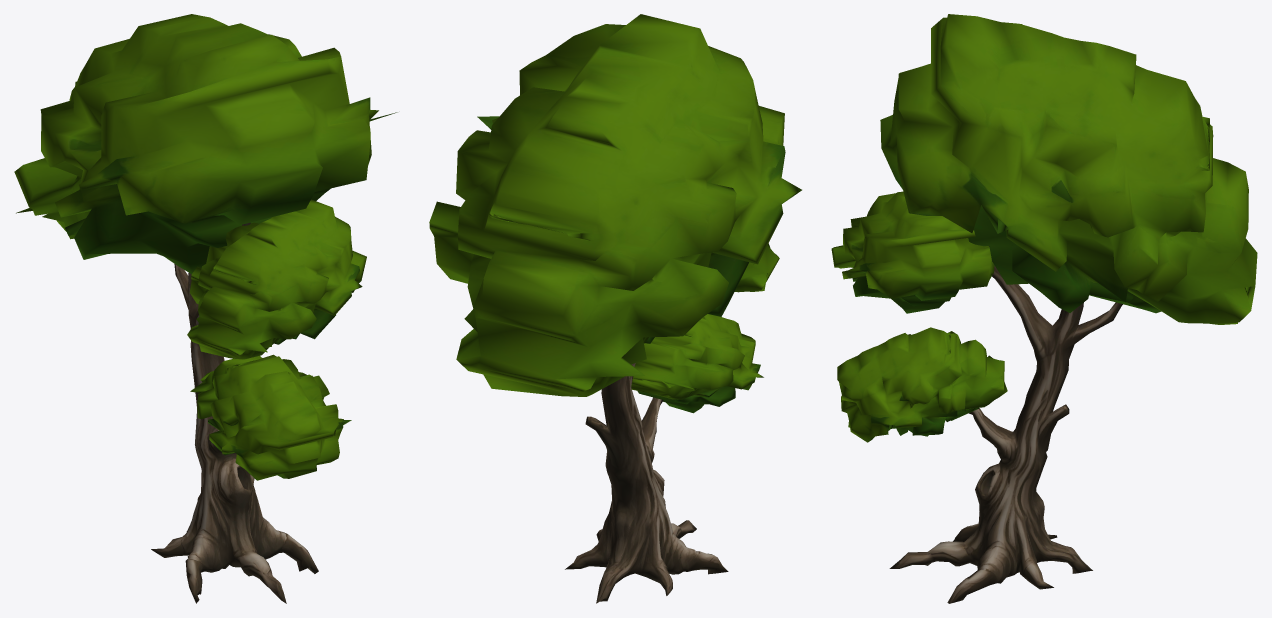
File: alberello.glb
3 views of the same model, side by side, from view 1: azimuth 30°, elevation 25°; view 2: azimuth 150°, elevation 25°; view 3: azimuth 270°, elevation 25° (orthographic).
Visible parts, largest first — view 1: tripo_node_ea1cfa80-1ff1-4c5d-9ee2-2db4f7dff88b.002; view 2: tripo_node_ea1cfa80-1ff1-4c5d-9ee2-2db4f7dff88b.002; view 3: tripo_node_ea1cfa80-1ff1-4c5d-9ee2-2db4f7dff88b.002.
Part boxes in pixels (<box>): tripo_node_ea1cfa80-1ff1-4c5d-9ee2-2db4f7dff88b.002: <box>14,14,397,603</box>; tripo_node_ea1cfa80-1ff1-4c5d-9ee2-2db4f7dff88b.002: <box>429,14,801,603</box>; tripo_node_ea1cfa80-1ff1-4c5d-9ee2-2db4f7dff88b.002: <box>831,14,1257,603</box>.
Size of the model in its own units: 0.8973 by 1.43 by 1.01.
Materials: 2 (2 with a texture image).
